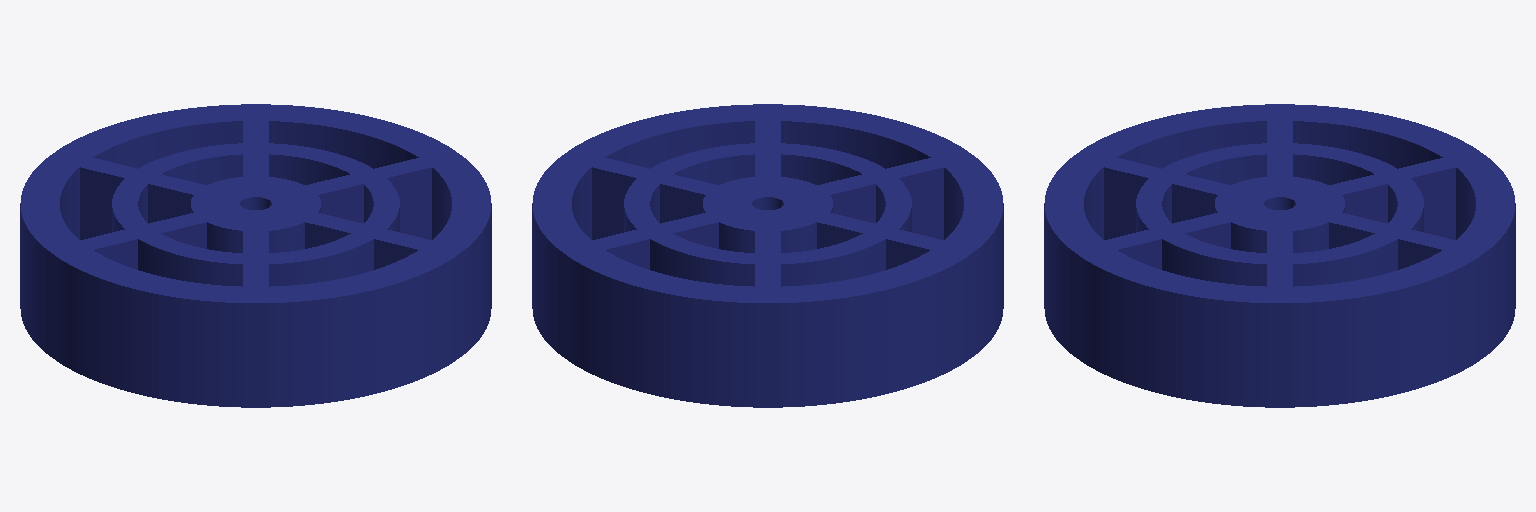
The robot description file, URDF, robot "cube.urdf":
<?xml version="1.0" ?>
<robot name="cube.urdf">
    <link name="legobrick">
        <contact>
            <lateral_friction value="1.0"/>
            <rolling_friction value="0.0"/>
            <contact_cfm value="0.0"/>
            <contact_erp value="1.0"/>
        </contact>
        <inertial>
            <origin rpy="0 0 0" xyz="0.0 0.0 0.0"/>
            <mass value="0.1"/>
            <inertia ixx="1" ixy="0" ixz="0" iyy="1" iyz="0" izz="1"/>
        </inertial>
        <visual>
            <origin rpy="1.570796 0 0" xyz="-0.001152925257731959 0.014222730670103094 -0.006989078608247398"/>
            <geometry>
                <mesh filename="Wheel.obj" scale="0.001 0.001 0.001"/>
            </geometry>
            <material name="yellow">
                <color rgba="0.2118 0.2431 0.5569 1"/>
            </material>
        </visual>
        <collision>
            <origin rpy="1.570796 0 0" xyz="-0.001152925257731959 0.014222730670103094 -0.006989078608247398"/>
            <geometry>
                <mesh filename="Wheel.obj" scale="0.001 0.001 0.001"/>
            </geometry>
        </collision>
    </link>
</robot>

--- Render facts (derived) ---
3 views of the same robot in one strip: view 1: azimuth 30°, elevation 25°; view 2: azimuth 150°, elevation 25°; view 3: azimuth 270°, elevation 25° (orthographic).
Model cube.urdf with 1 links and 0 joints (none), rooted at legobrick, posed every joint at zero.
Links seen in each view (by area): view 1: legobrick; view 2: legobrick; view 3: legobrick.
Link boxes in pixels (x1,y1,x2,y2): legobrick: (20, 104, 491, 407); legobrick: (532, 104, 1003, 407); legobrick: (1044, 104, 1515, 407).
Size in the robot's own frame: 0.0899 by 0.09 by 0.022 metres.
Meshes: 1 distinct files referenced, 1 mesh visuals loaded (1 OBJ).